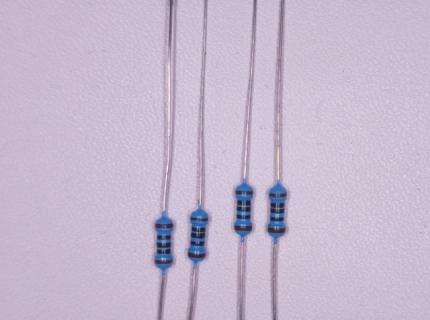Black band: (271, 202, 285, 208), (270, 208, 284, 214), (270, 216, 284, 222), (237, 206, 251, 212), (237, 200, 251, 206), (191, 233, 205, 239), (157, 242, 171, 248), (192, 226, 205, 232), (236, 214, 251, 219), (157, 235, 172, 240), (191, 241, 205, 246), (157, 249, 171, 254)
Brown band: (268, 226, 286, 233), (155, 223, 173, 229), (188, 252, 206, 258), (190, 216, 209, 221), (155, 259, 173, 264), (269, 192, 287, 197), (235, 226, 252, 231), (235, 191, 253, 195)
